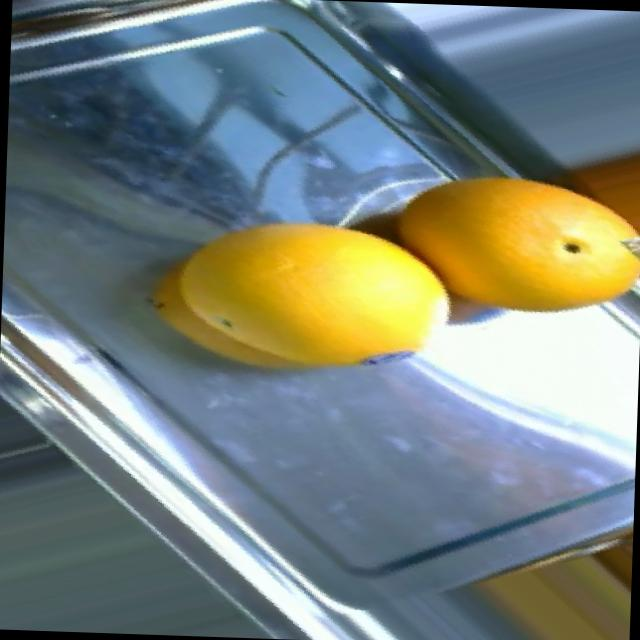Fruit: (121, 200, 328, 392)
